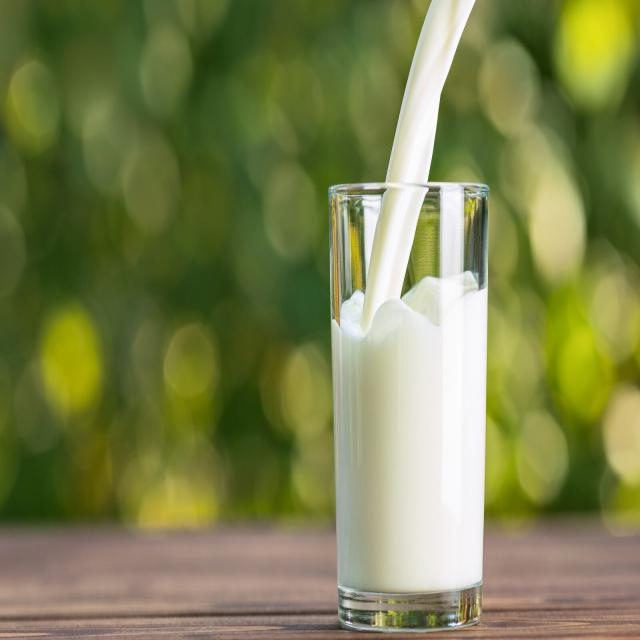Milk carton/jug: (329, 271, 487, 609)
